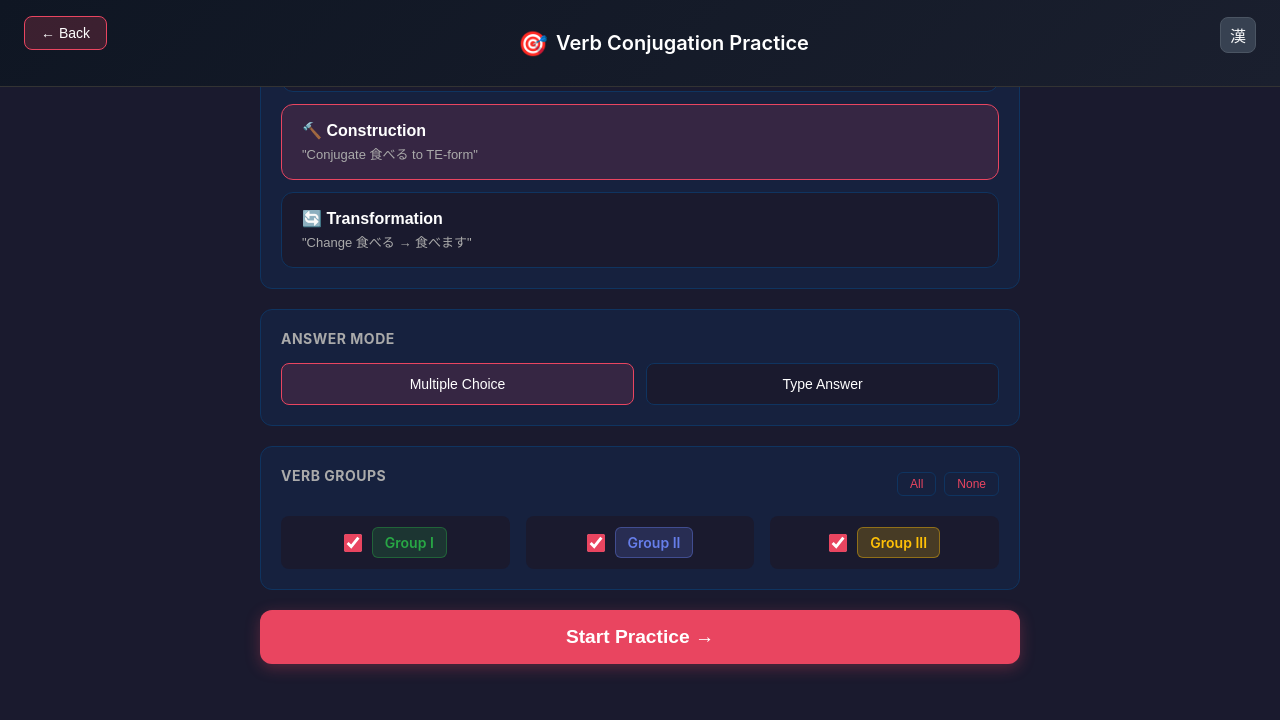
Scenario: VerbMode › Exercise Screen - Construction Mode › should display verb meaning
(page scrolled)
What coordinates should you click on to do the following:
click the button "Start Practice →"
I would click on:
 (640, 637)
Its box is [260,610,1020,664].
(page scrolled)
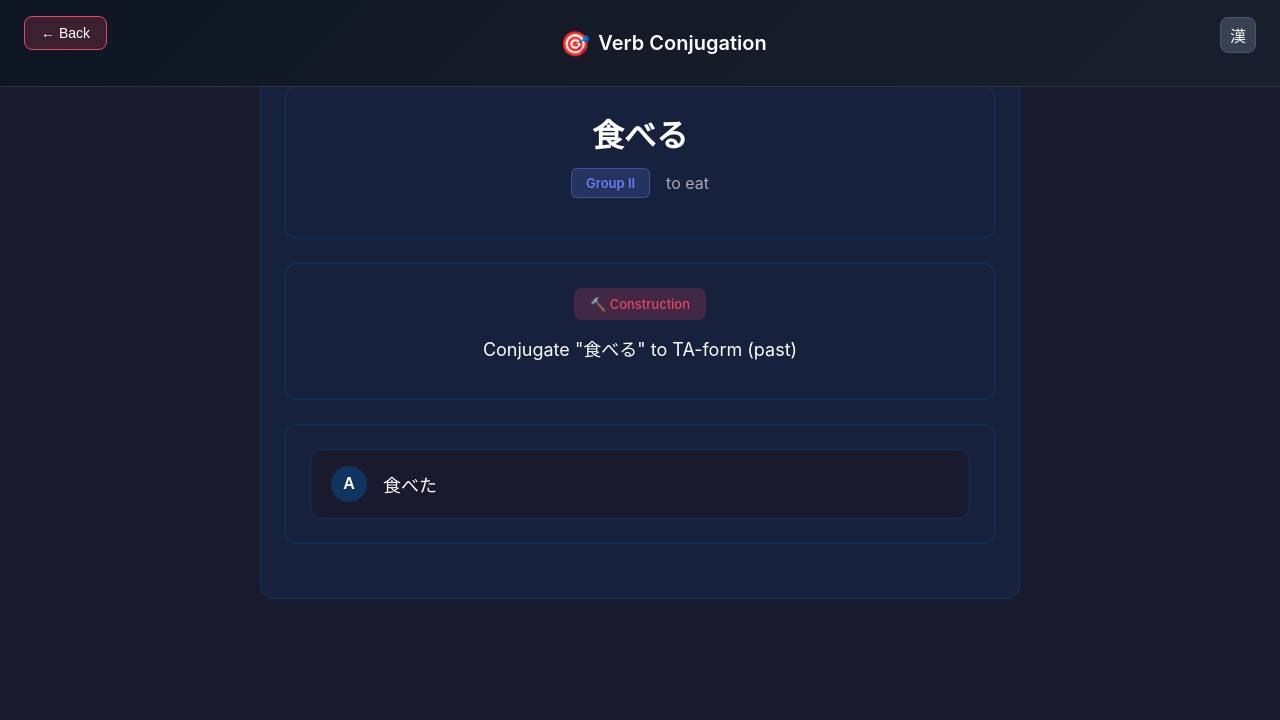
Now the text "to eat" is shown, box [666,173,709,193]
